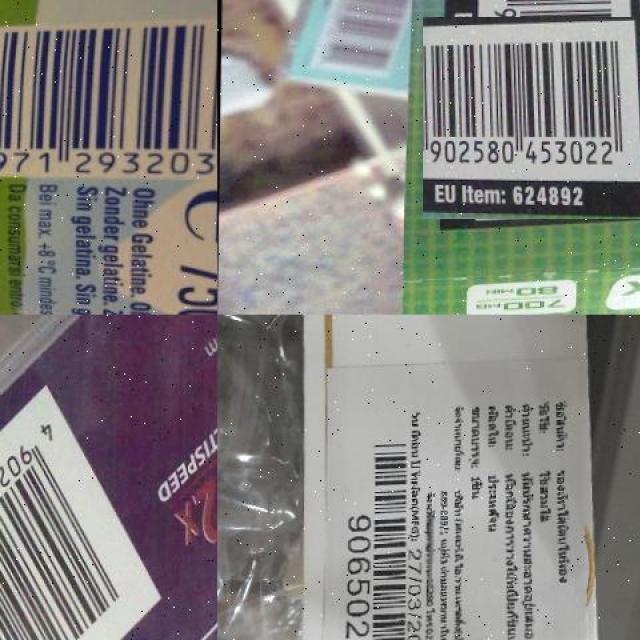Barcode: (430, 9, 640, 227), (0, 385, 163, 640), (0, 22, 217, 196), (340, 433, 415, 640)
